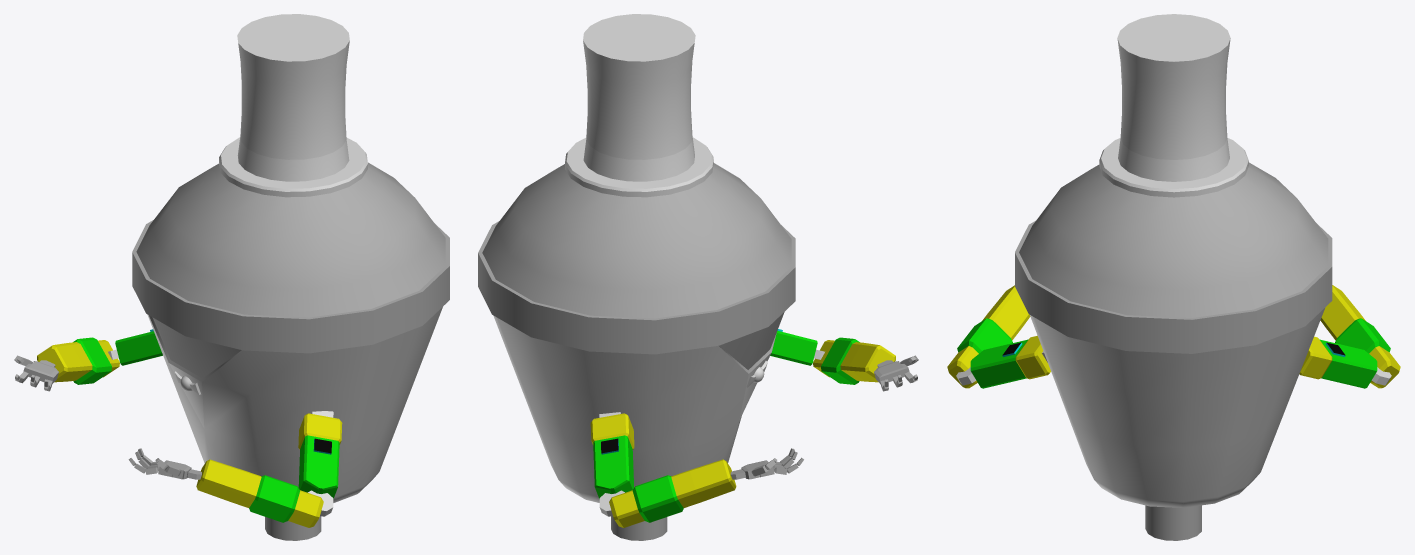
The model's file is WW_TicketRobot_Char.fbx.
3 renders of one model, left to right at view 1: azimuth 30°, elevation 25°; view 2: azimuth 150°, elevation 25°; view 3: azimuth 270°, elevation 25°, orthographic.
Parts seen in each view (by area): view 1: WW_TicketRobot_Char, TopHat, TicketRobottArmLeft3, TicketRobottArmLeft1, TicketRobotRightArm3, TicketRobotRightArm1; view 2: WW_TicketRobot_Char, TopHat, TicketRobotRightArm3, TicketRobotRightArm1, TicketRobottArmLeft3, TicketRobottArmLeft1; view 3: WW_TicketRobot_Char, TopHat, TicketRobottArmLeft3, TicketRobotRightArm3, TicketRobottArmLeft1, TicketRobotRightArm1.
Boxes of the visible parts, left/top/right/bottom form: WW_TicketRobot_Char: left=132, top=162, right=449, bottom=540; TopHat: left=219, top=14, right=367, bottom=197; TicketRobottArmLeft3: left=196, top=459, right=323, bottom=527; TicketRobottArmLeft1: left=298, top=413, right=342, bottom=498; TicketRobotRightArm3: left=37, top=337, right=119, bottom=384; TicketRobotRightArm1: left=115, top=329, right=162, bottom=365; WW_TicketRobot_Char: left=478, top=163, right=795, bottom=540; TopHat: left=565, top=14, right=713, bottom=197; TicketRobotRightArm3: left=609, top=459, right=736, bottom=527; TicketRobotRightArm1: left=590, top=413, right=634, bottom=498; TicketRobottArmLeft3: left=813, top=337, right=895, bottom=384; TicketRobottArmLeft1: left=770, top=329, right=817, bottom=365; WW_TicketRobot_Char: left=1015, top=162, right=1332, bottom=540; TopHat: left=1099, top=14, right=1248, bottom=197; TicketRobottArmLeft3: left=947, top=285, right=1030, bottom=388; TicketRobotRightArm3: left=1320, top=285, right=1400, bottom=388; TicketRobottArmLeft1: left=970, top=335, right=1050, bottom=388; TicketRobotRightArm1: left=1299, top=336, right=1377, bottom=388.
Size of the model in its own units: 91.48 by 119 by 99.79.
